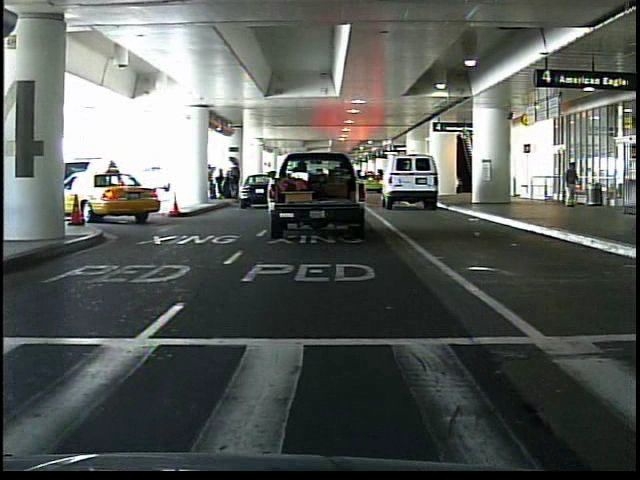person: (560, 160, 581, 212)
